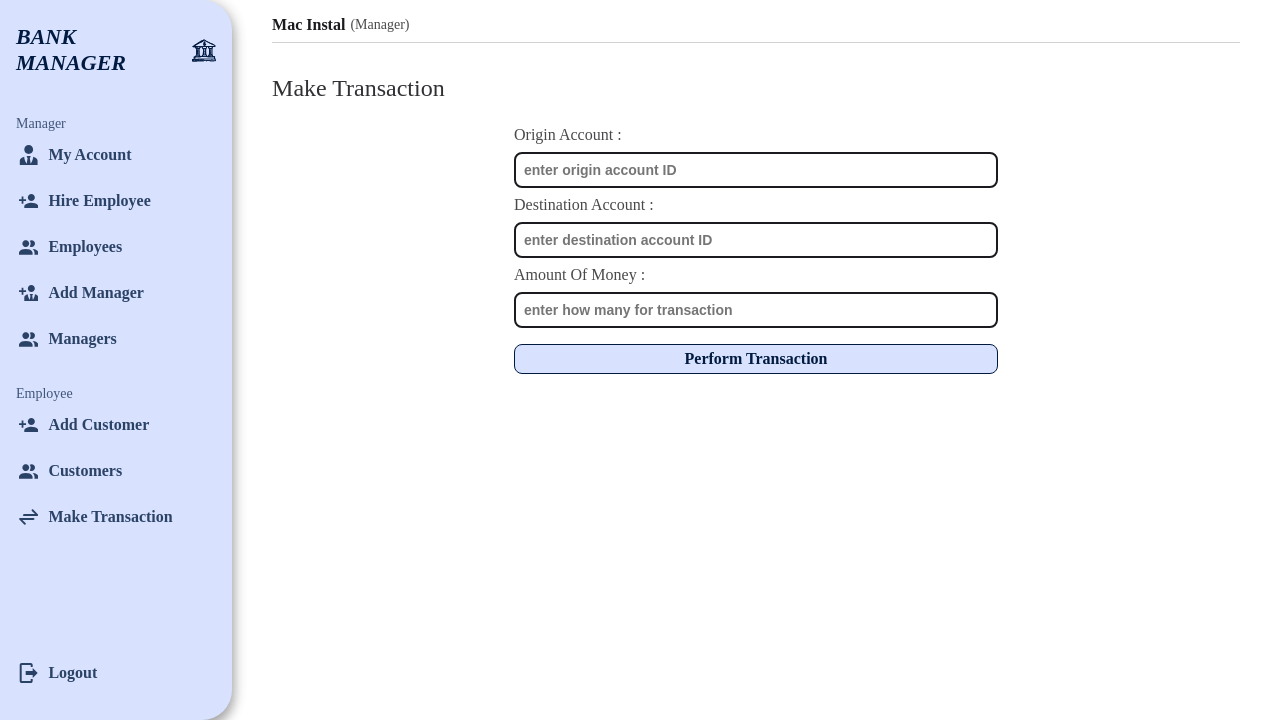
Test: lets make Transaction › if any inputs be an empty error message show up
Click the button with test id "dash-makeTransaction-submit": (756, 359) [514,344,998,374]
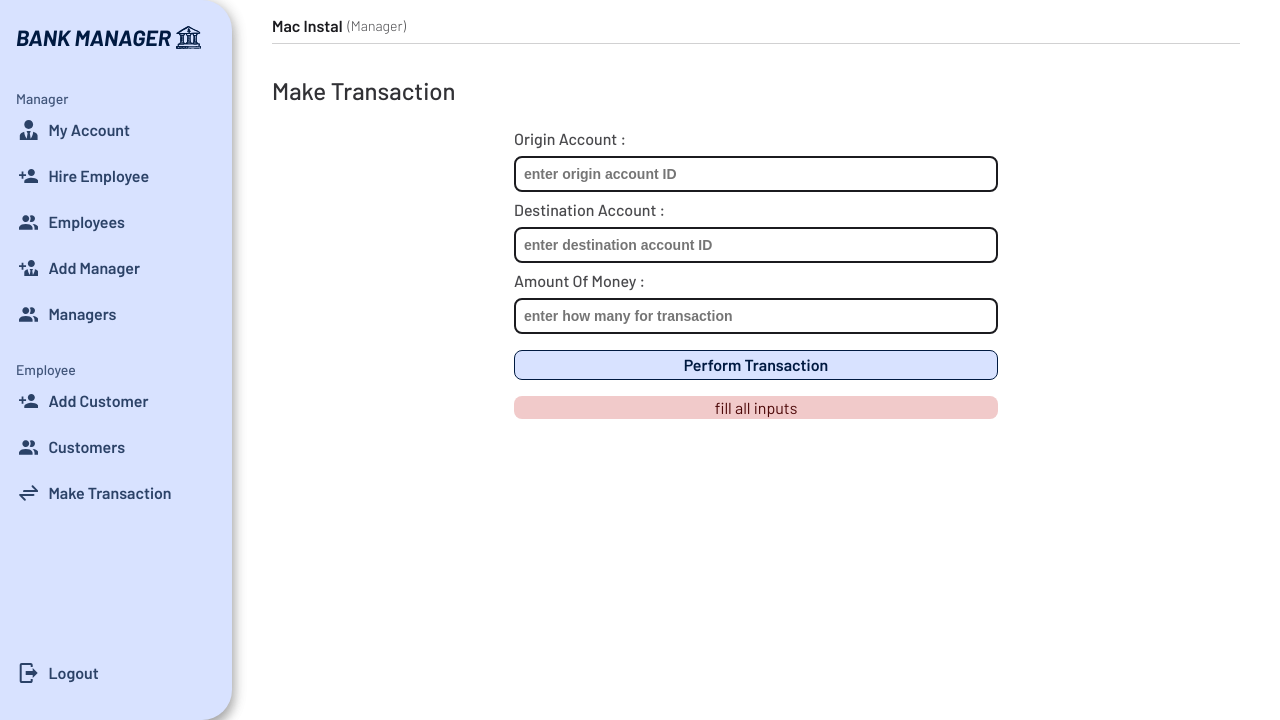
Expected: the text "fill all inputs" is shown, [514,396,998,419]
